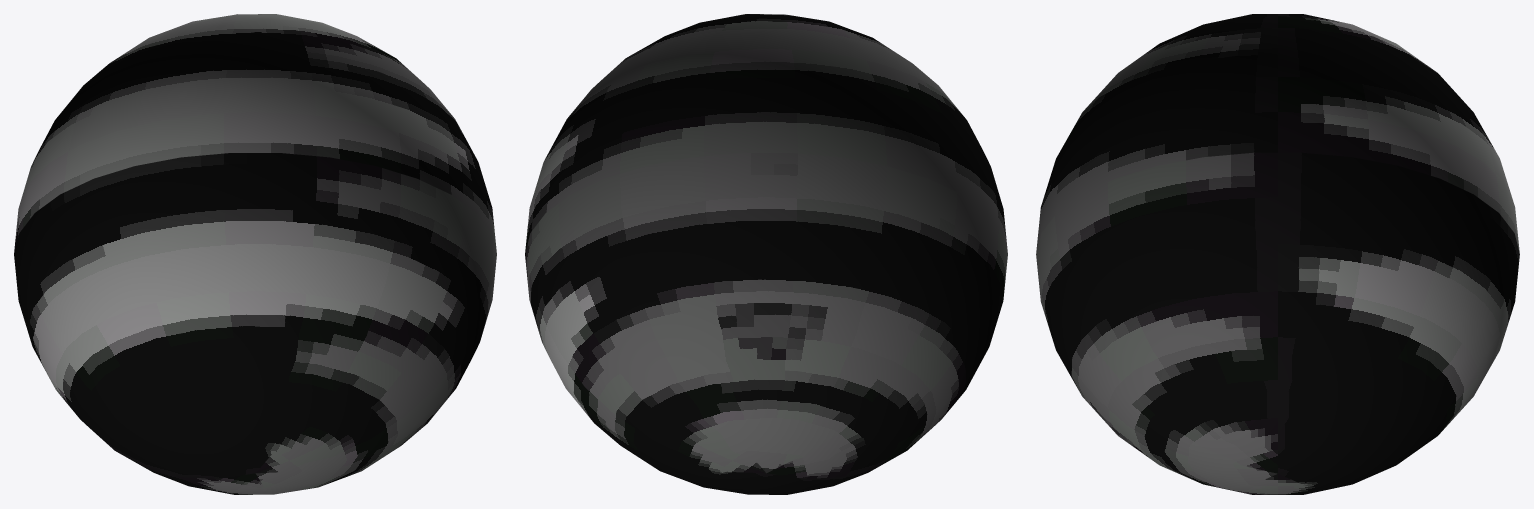
File: ClaritySphere.glb
3 views of the same model, side by side, from view 1: azimuth 30°, elevation 25°; view 2: azimuth 150°, elevation 25°; view 3: azimuth 270°, elevation 25° (orthographic).
Parts seen in each view (by area): view 1: ClaritySphere; view 2: ClaritySphere; view 3: ClaritySphere.
Boxes of the visible parts, x1=… form: ClaritySphere: x1=14, y1=14, x2=496, y2=494; ClaritySphere: x1=525, y1=14, x2=1007, y2=494; ClaritySphere: x1=1036, y1=14, x2=1519, y2=494.
Bounding box in the file's own units: 2.55 × 2.56 × 2.56.
1 material, 1 textured.
